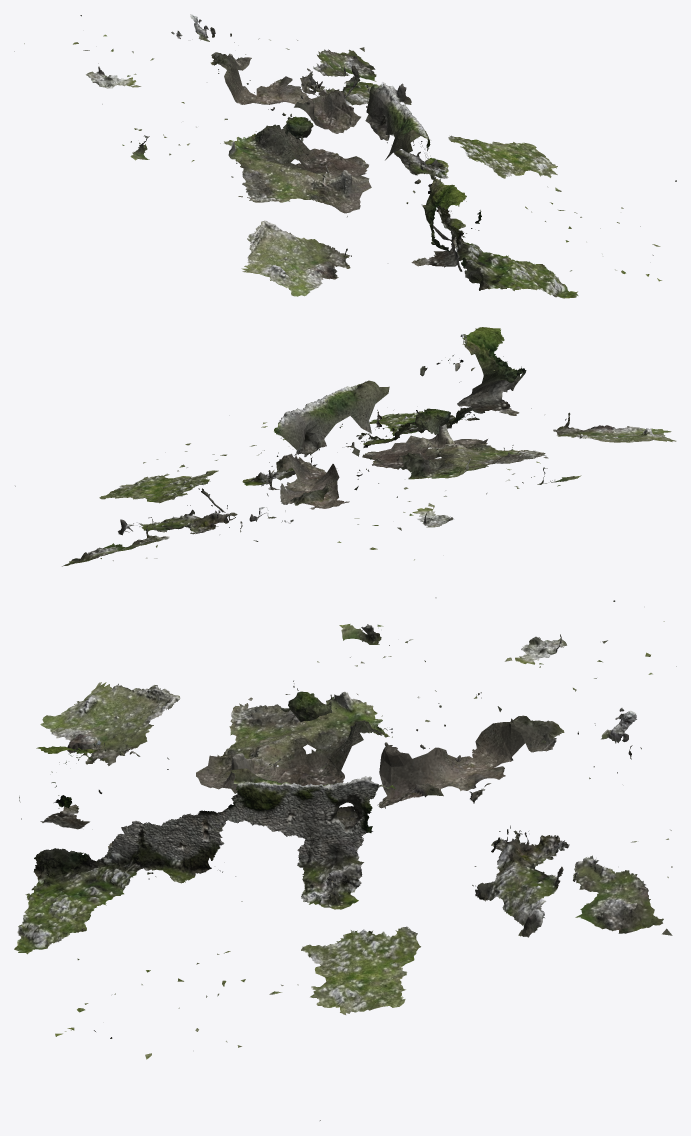
The picture shows the model from 3 angles, top to bottom: view 1: azimuth 30°, elevation 25°; view 2: azimuth 150°, elevation 25°; view 3: azimuth 270°, elevation 25°; orthographic projection. The views are drawn at different scales.
Bounding box in the file's own units: 53.77 × 18.73 × 47.23.
1 material, 1 textured.
